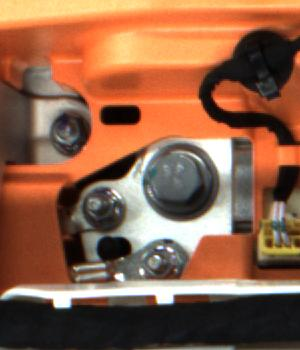nut_b: (142, 139, 226, 228)
